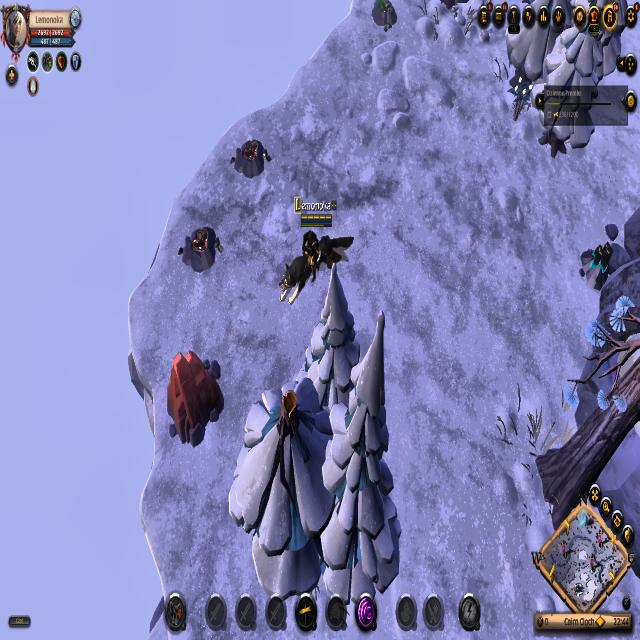fiber tier 4: (509, 74, 534, 124)
ore tier 4: (582, 236, 613, 291)
rock tier 5: (162, 348, 225, 448)
